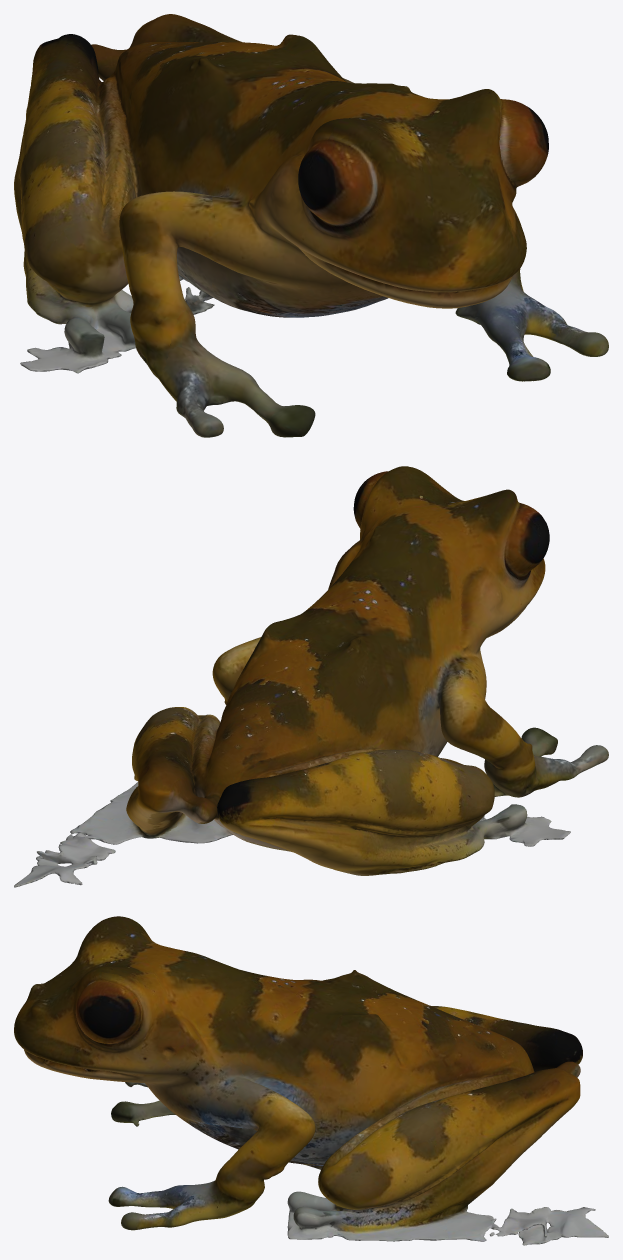
File: smilisca-sordida.glb
The picture shows the model from 3 angles, top to bottom: view 1: azimuth 30°, elevation 25°; view 2: azimuth 150°, elevation 25°; view 3: azimuth 270°, elevation 25°; orthographic projection. The views are drawn at different scales.
Parts seen in each view (by area): view 1: tripo_node_ae4a16b7-a69e-4e62-82d1-d972cea91942; view 2: tripo_node_ae4a16b7-a69e-4e62-82d1-d972cea91942; view 3: tripo_node_ae4a16b7-a69e-4e62-82d1-d972cea91942.
Part boxes in pixels (bbox=[...]): tripo_node_ae4a16b7-a69e-4e62-82d1-d972cea91942: bbox=[14, 14, 608, 437]; tripo_node_ae4a16b7-a69e-4e62-82d1-d972cea91942: bbox=[14, 466, 608, 887]; tripo_node_ae4a16b7-a69e-4e62-82d1-d972cea91942: bbox=[14, 916, 608, 1245].
Size of the model in its own units: 0.6924 by 0.4169 by 0.9997.
1 material, 1 textured.
